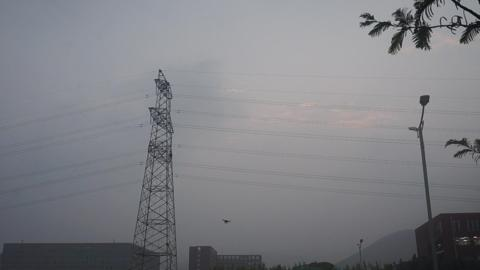UAV: (222, 219, 231, 224)
